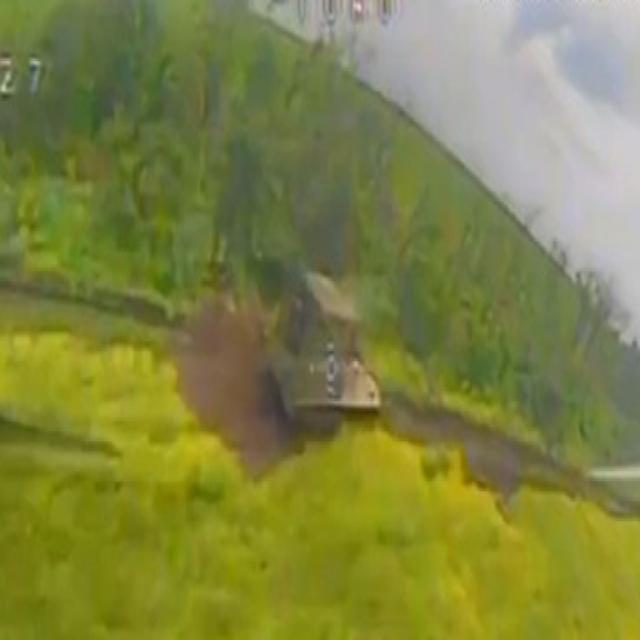APC-IFV: (256, 311, 388, 451)
